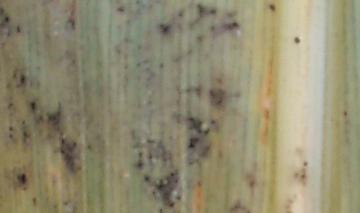tarspot: (141, 171, 183, 208), (145, 136, 173, 165), (58, 136, 79, 172), (188, 2, 217, 27), (187, 115, 210, 138), (62, 1, 78, 32), (46, 101, 62, 129), (174, 84, 203, 99), (291, 160, 309, 184), (207, 86, 225, 107), (226, 199, 249, 213), (156, 22, 172, 34), (187, 136, 199, 151), (226, 21, 240, 32), (267, 1, 277, 13), (18, 74, 27, 87), (115, 5, 125, 15), (292, 34, 301, 45), (14, 24, 23, 35), (21, 129, 30, 140), (341, 108, 349, 119), (134, 160, 143, 168), (6, 101, 14, 110), (7, 124, 14, 134), (137, 150, 144, 160), (30, 101, 36, 111), (7, 133, 14, 140), (158, 62, 164, 70), (3, 15, 10, 21), (158, 207, 164, 213)
